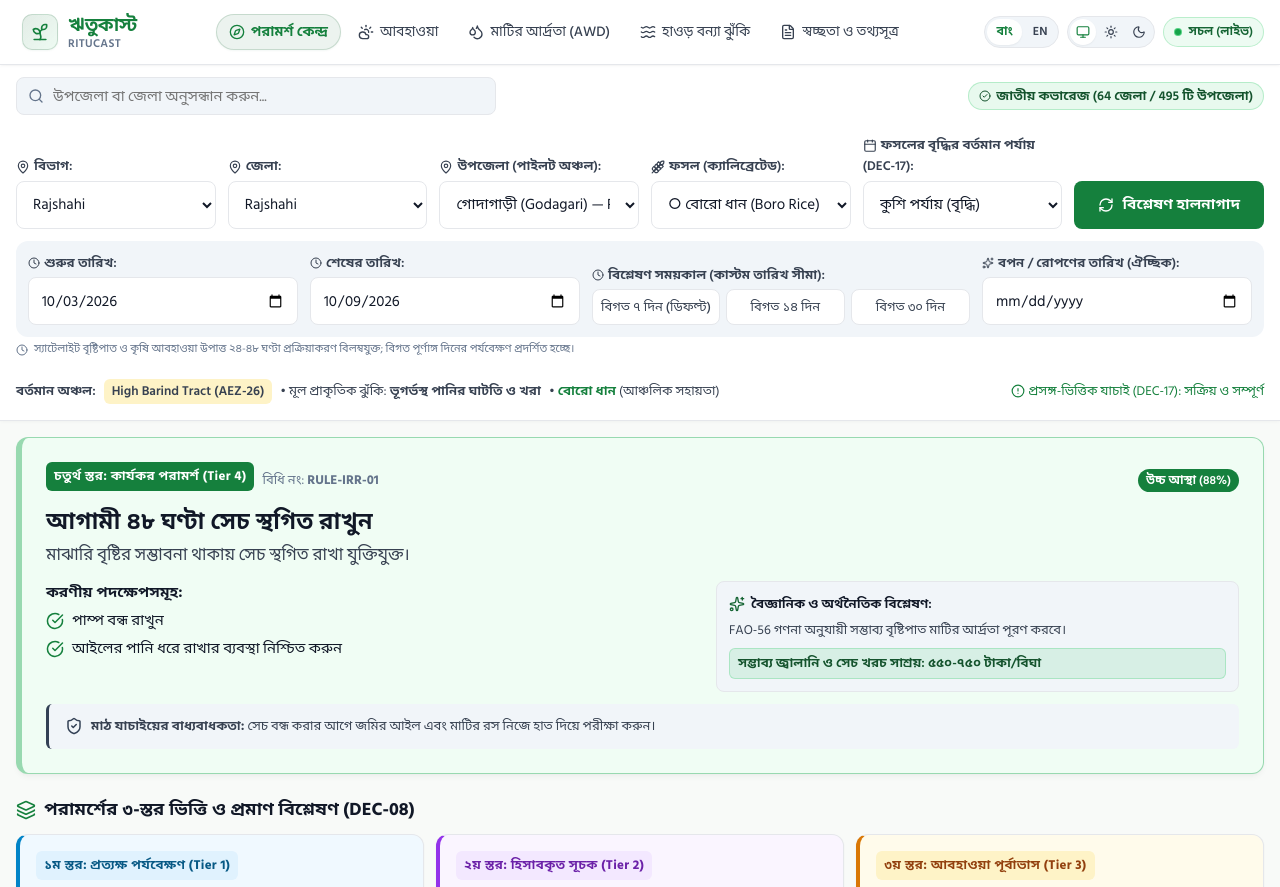
it: Phase 16: User Acceptance, Usability, and Field Readiness Test Suite › Journey B: switches location from Godagari (Barind) to Tahirpur (Haor) and updates hazard context
Check: the heading "আগামী ৪৮ ঘণ্টা সেচ স্থগিত রাখুন" is shown, box 46,503 -> 373,541
Note: Change Upazila to Tahirpur (Haor Basin)
Select "তাহিরপুর (Tahirpur) — Sunamganj" in the dropdown labelled "উপজেলা (পাইলট অঞ্চল):". click: (539, 205)
box: 439,181 -> 639,229
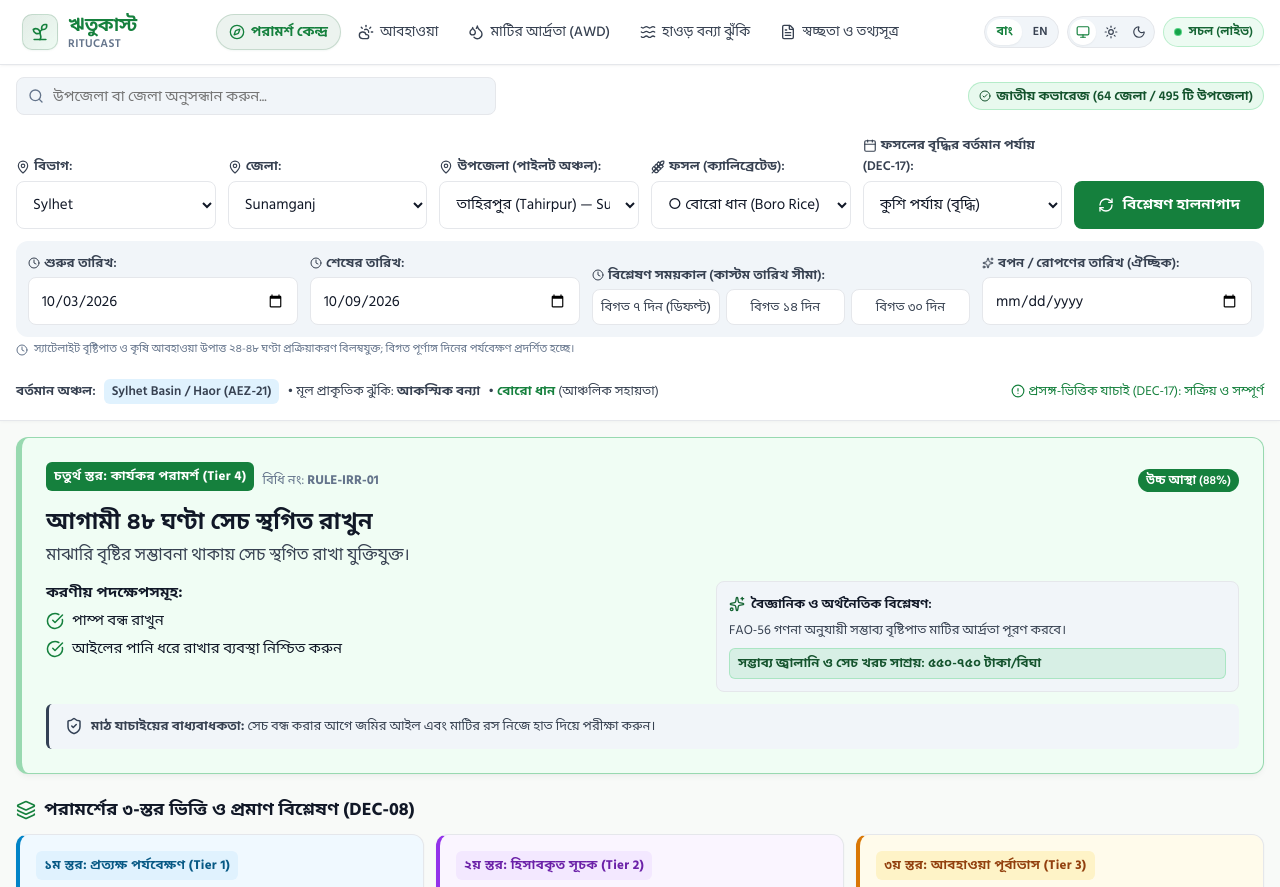
Check: the text "• মূল প্রাকৃতিক ঝুঁকি: আকস্মিক বন্যা" is shown, box 287,381 -> 480,402
Check: the text "আকস্মিক বন্যা" is shown, box 397,380 -> 480,402
Check: the text "Sylhet Basin / Haor (AEZ-21)" is shown, box 104,379 -> 279,404
